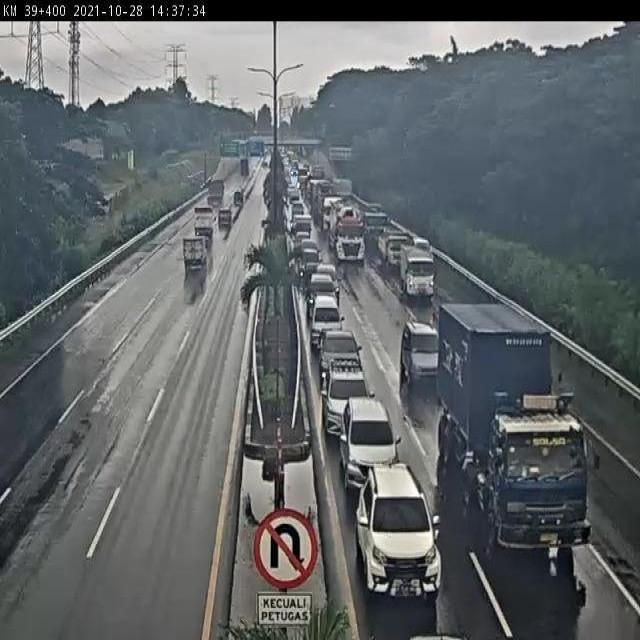big truck: (334, 216, 368, 272), (364, 207, 390, 260)
car: (443, 309, 614, 556), (359, 460, 443, 599), (343, 388, 406, 492), (397, 310, 448, 394), (324, 354, 368, 446), (324, 322, 369, 386), (312, 287, 343, 345), (381, 228, 410, 273), (309, 269, 337, 311), (300, 242, 323, 286), (314, 256, 340, 292), (294, 211, 315, 252), (218, 204, 234, 236), (290, 199, 307, 229), (230, 184, 247, 208)
small truck: (404, 248, 437, 303), (193, 201, 220, 239), (181, 236, 211, 268), (207, 174, 225, 207)
